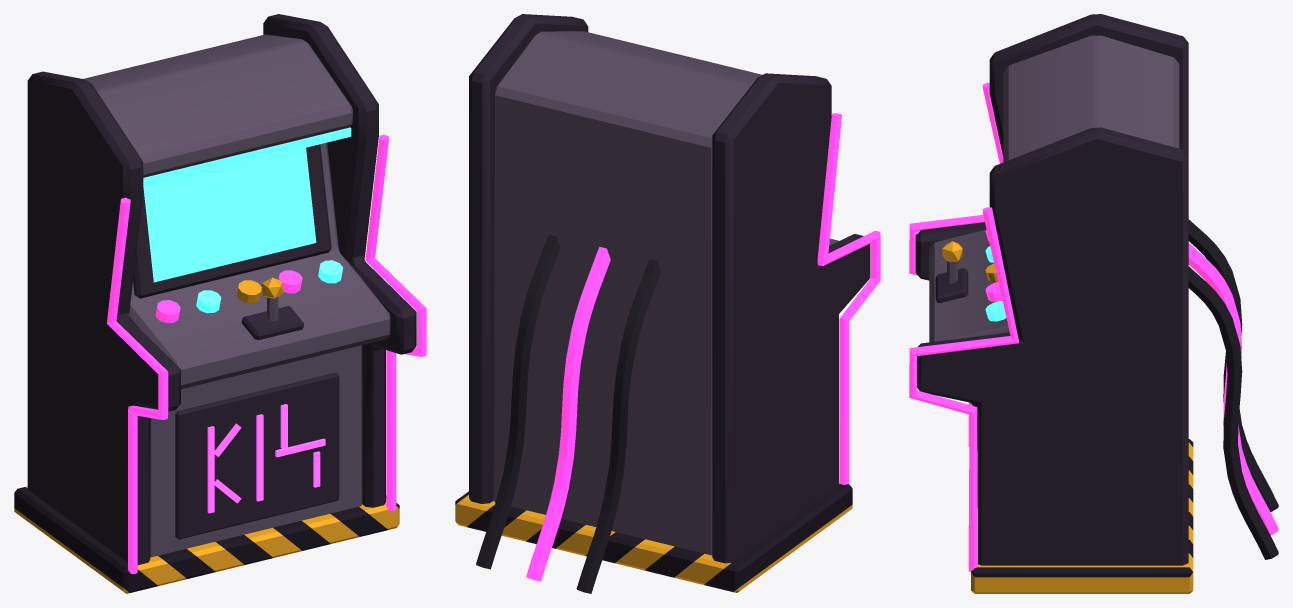
File: console__lower.glb
The picture shows the model from 3 angles, left to right: view 1: azimuth 30°, elevation 25°; view 2: azimuth 150°, elevation 25°; view 3: azimuth 270°, elevation 25°; orthographic projection. The views are drawn at different scales.
Visible parts, largest first — view 1: Body, Screen; view 2: Body; view 3: Body.
Part boxes in pixels (<box>): Body: <box>14,14,426,593</box>; Screen: <box>143,148,316,282</box>; Body: <box>455,14,880,593</box>; Body: <box>909,14,1278,593</box>.
Bounding box in the file's own units: 0.68 × 1.09 × 0.7979.
